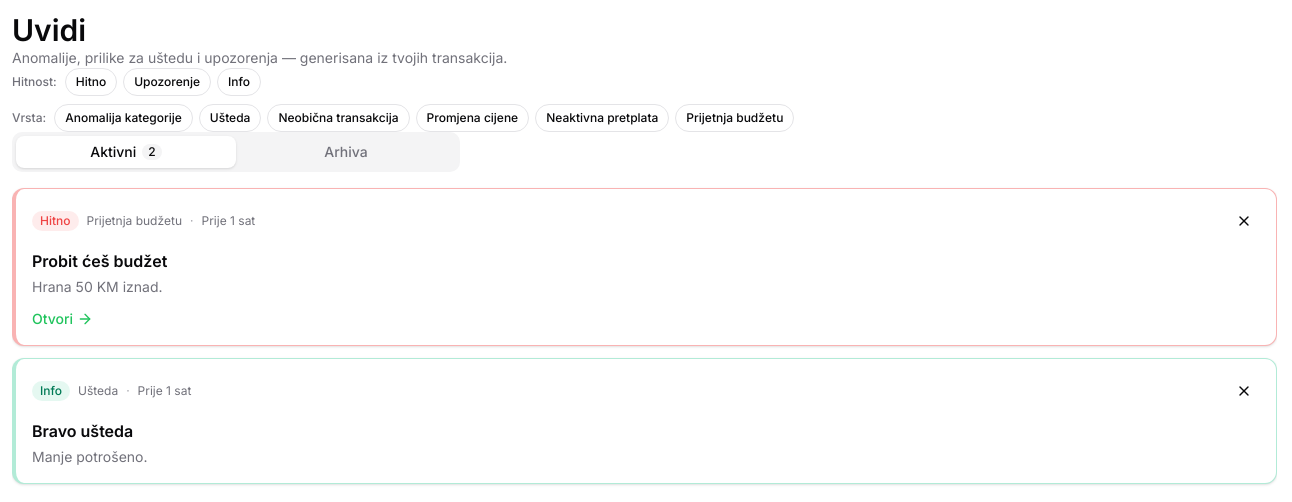
Test: UvidiClient › filters by type
Click the button "Prijetnja budžetu" at (735, 118), box top-left (675, 104), bottom-right (794, 132)
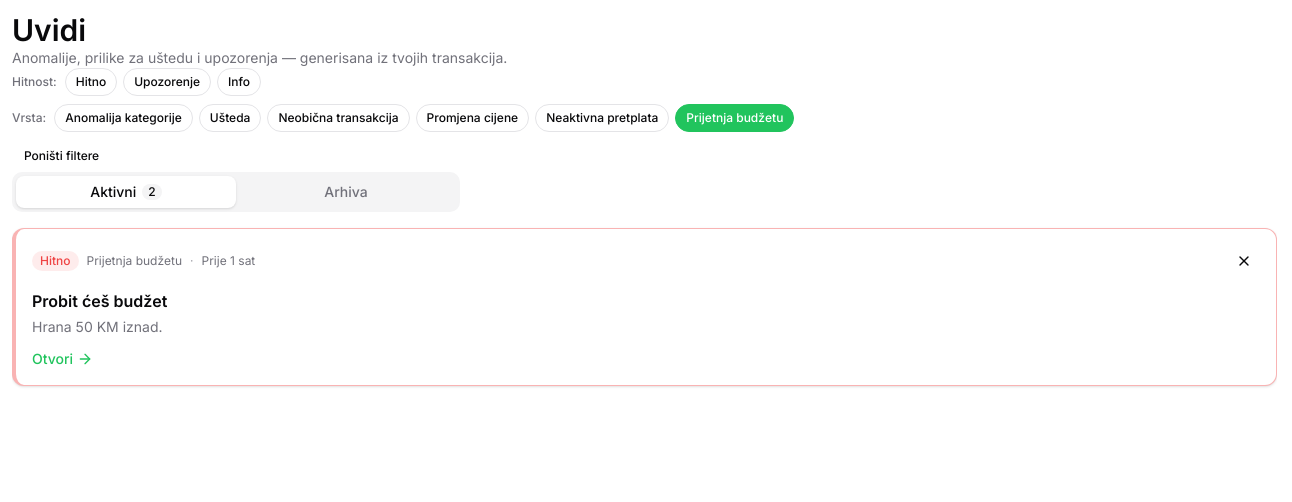
Expected: the heading "Probit ćeš budžet" is shown, top-left (32, 291), bottom-right (168, 311)
Now the heading "Bravo ušteda" is gone
